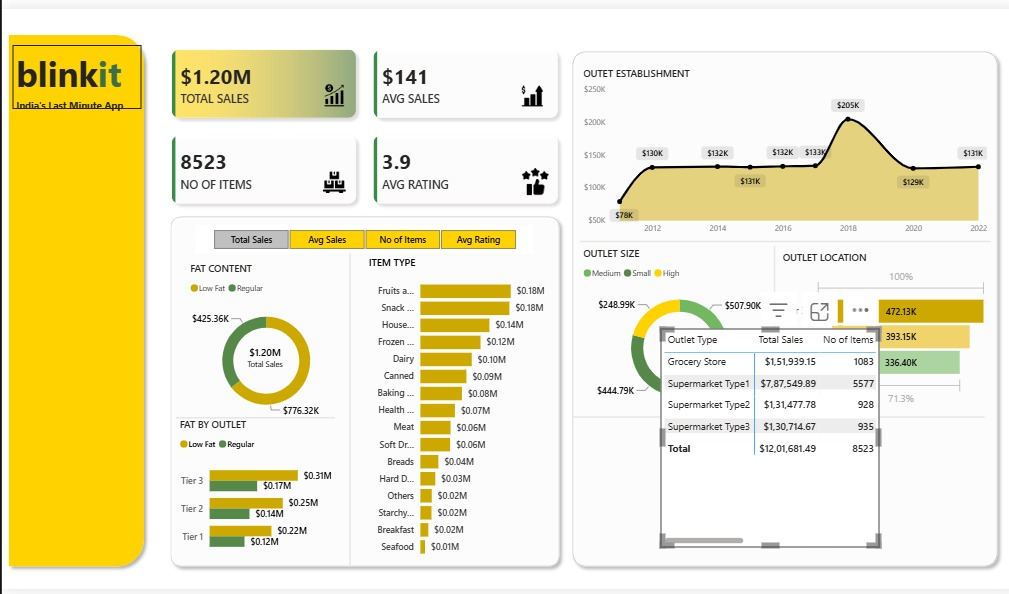

Layout of this report page (visuals, bound fields, positions):
{"tool":"powerbi","page":{"name":"Blinkit Dashboard","canvas":[1400,800],"ordinal":0},"visuals":[{"type":"shape","box":[0,26.9,204.6,750.3],"z":0},{"type":"textbox","box":[14.5,49.6,177.8,88.9],"z":1000},{"type":"textbox","box":[14.5,117.8,175.7,41.3],"z":2000},{"type":"cardVisual","fields":{"Data":["BlinkIT Grocery Data.Total Sales","BlinkIT Grocery Data.Avg Sales","BlinkIT Grocery Data.No of Items","BlinkIT Grocery Data.Avg Rating"]},"box":[204.6,26.9,591.1,270.8],"z":3000},{"type":"image","box":[442.3,99.2,31,39.3],"z":4000},{"type":"image","box":[715.2,99.2,31,41.3],"z":5000},{"type":"image","box":[442.3,219.1,31,39.3],"z":6000},{"type":"image","box":[715.2,219.1,39.3,37.2],"z":7000},{"type":"shape","box":[223.2,277,553.9,500.2],"z":8000},{"type":"donutChart","title":"FAT CONTENT","fields":{"Y":["BlinkIT Grocery Data.Total Sales"],"Category":["BlinkIT Grocery Data.Item Fat Content"]},"box":[254.2,347.2,219.1,229.4],"z":9000},{"type":"slicer","fields":{"Values":["Metrics.Metrics"]},"box":[266.6,297.6,465.1,39.3],"z":10000},{"type":"cardVisual","fields":{"Data":["BlinkIT Grocery Data.Total Sales"]},"box":[305.9,446.5,113.7,66.1],"z":11000},{"type":"clusteredBarChart","title":"FAT BY OUTLET","fields":{"Y":["BlinkIT Grocery Data.Total Sales"],"Category":["BlinkIT Grocery Data.Outlet Location Type"],"Series":["BlinkIT Grocery Data.Item Fat Content"]},"box":[239.8,562.2,219.1,200.5],"z":12000},{"type":"shape","box":[239.8,551.9,219.1,22.7],"z":13000},{"type":"shape","box":[473.3,336.9,12.4,432],"z":14000},{"type":"barChart","title":"ITEM TYPE","fields":{"Y":["BlinkIT Grocery Data.Total Sales"],"Category":["BlinkIT Grocery Data.Item Type"]},"box":[500.2,339,252.2,425.8],"z":15000},{"type":"shape","box":[777.2,49.6,603.5,727.6],"z":16000},{"type":"lineChart","title":"OUTET ESTABLISHMENT","fields":{"Category":["BlinkIT Grocery Data.Outlet Establishment Year"],"Y":["BlinkIT Grocery Data.Total Sales"]},"box":[795.8,78.5,566.3,239.8],"z":17000},{"type":"donutChart","title":"OUTLET SIZE","fields":{"Y":["BlinkIT Grocery Data.Total Sales"],"Category":["BlinkIT Grocery Data.Outlet Size"]},"box":[795.8,326.6,274.9,235.6],"z":18000},{"type":"shape","box":[1058.3,339,12.4,225.3],"z":19000},{"type":"funnel","title":"OUTLET LOCATION","fields":{"Category":["BlinkIT Grocery Data.Outlet Location Type"],"Y":["Sum(BlinkIT Grocery Data.Sales)"]},"box":[1070.7,332.8,291.4,219.1],"z":20000},{"type":"shape","box":[795.8,308,566.3,24.8],"z":21000},{"type":"shape","box":[789.6,562.2,566.3,24.8],"z":22000},{"type":"pivotTable","title":"OUTLET TYPE ","fields":{"Rows":["BlinkIT Grocery Data.Outlet Type"],"Values":["BlinkIT Grocery Data.Total Sales","BlinkIT Grocery Data.No of Items","BlinkIT Grocery Data.Avg Sales","BlinkIT Grocery Data.Avg Rating","Avg(BlinkIT Grocery Data.Item Visibility)"]},"box":[789.6,591.1,578.7,155],"z":23000},{"type":"slicer","fields":{"Values":["BlinkIT Grocery Data.Outlet Location Type"]},"box":[14.5,262.5,175.7,64.1],"z":23001},{"type":"slicer","fields":{"Values":["BlinkIT Grocery Data.Outlet Size"]},"box":[14.5,349.3,175.7,64.1],"z":23002},{"type":"slicer","fields":{"Values":["BlinkIT Grocery Data.Item Type"]},"box":[16.5,429.9,175.7,64.1],"z":23003},{"type":"textbox","box":[16.5,217,175.7,41.3],"z":23004}]}

Visuals, with their boxes in screenshot pixels (x1, y1, x2, y2), scaled from the page's 1400x800 canvas onto the 1009x594 screenshot:
shape: Rect(0, 20, 147, 577)
textbox: Rect(10, 37, 139, 103)
textbox: Rect(10, 87, 137, 118)
cardVisual - BlinkIT Grocery Data.Total Sales x BlinkIT Grocery Data.Avg Sales: Rect(147, 20, 573, 221)
image: Rect(319, 74, 341, 103)
image: Rect(515, 74, 538, 104)
image: Rect(319, 163, 341, 192)
image: Rect(515, 163, 544, 190)
shape: Rect(161, 206, 560, 577)
"FAT CONTENT" donutChart: Rect(183, 258, 341, 428)
slicer - Metrics.Metrics: Rect(192, 221, 527, 250)
cardVisual - BlinkIT Grocery Data.Total Sales: Rect(220, 332, 302, 381)
"FAT BY OUTLET" clusteredBarChart: Rect(173, 417, 331, 566)
shape: Rect(173, 410, 331, 427)
shape: Rect(341, 250, 350, 571)
"ITEM TYPE" barChart: Rect(361, 252, 542, 568)
shape: Rect(560, 37, 995, 577)
"OUTET ESTABLISHMENT" lineChart: Rect(574, 58, 982, 236)
"OUTLET SIZE" donutChart: Rect(574, 243, 772, 417)
shape: Rect(763, 252, 772, 419)
"OUTLET LOCATION" funnel: Rect(772, 247, 982, 410)
shape: Rect(574, 229, 982, 247)
shape: Rect(569, 417, 977, 436)
"OUTLET TYPE " pivotTable: Rect(569, 439, 986, 554)
slicer - BlinkIT Grocery Data.Outlet Location Type: Rect(10, 195, 137, 243)
slicer - BlinkIT Grocery Data.Outlet Size: Rect(10, 259, 137, 307)
slicer - BlinkIT Grocery Data.Item Type: Rect(12, 319, 139, 367)
textbox: Rect(12, 161, 139, 192)
